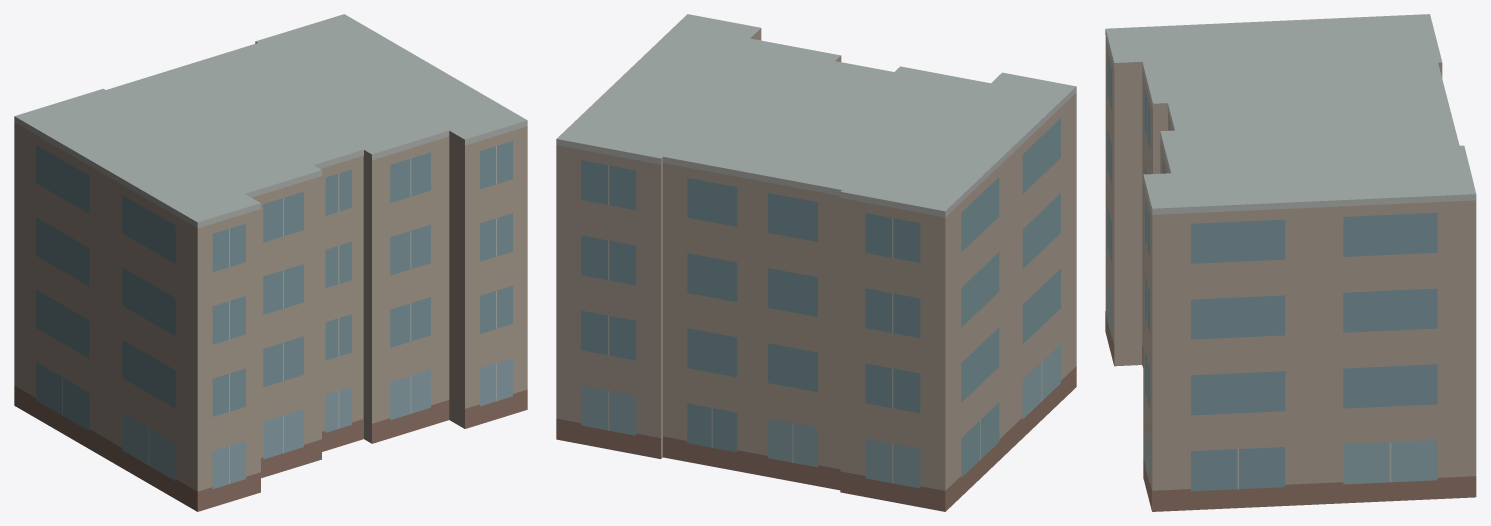
File: survey-upis-32620233.glb
3 views of the same model, side by side, from view 1: azimuth 30°, elevation 25°; view 2: azimuth 150°, elevation 25°; view 3: azimuth 270°, elevation 25° (orthographic). The views are drawn at different scales.
Parts seen in each view (by area): view 1: survey-upis-32620233.tmp; view 2: survey-upis-32620233.tmp; view 3: survey-upis-32620233.tmp.
Boxes of the visible parts, <box> form: survey-upis-32620233.tmp: <box>14,14,527,511</box>; survey-upis-32620233.tmp: <box>556,14,1076,511</box>; survey-upis-32620233.tmp: <box>1105,14,1476,511</box>.
Bounding box in the file's own units: 16.4 × 11.9 × 13.2.
